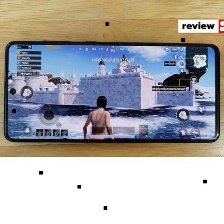phone: (1, 38, 223, 148)
